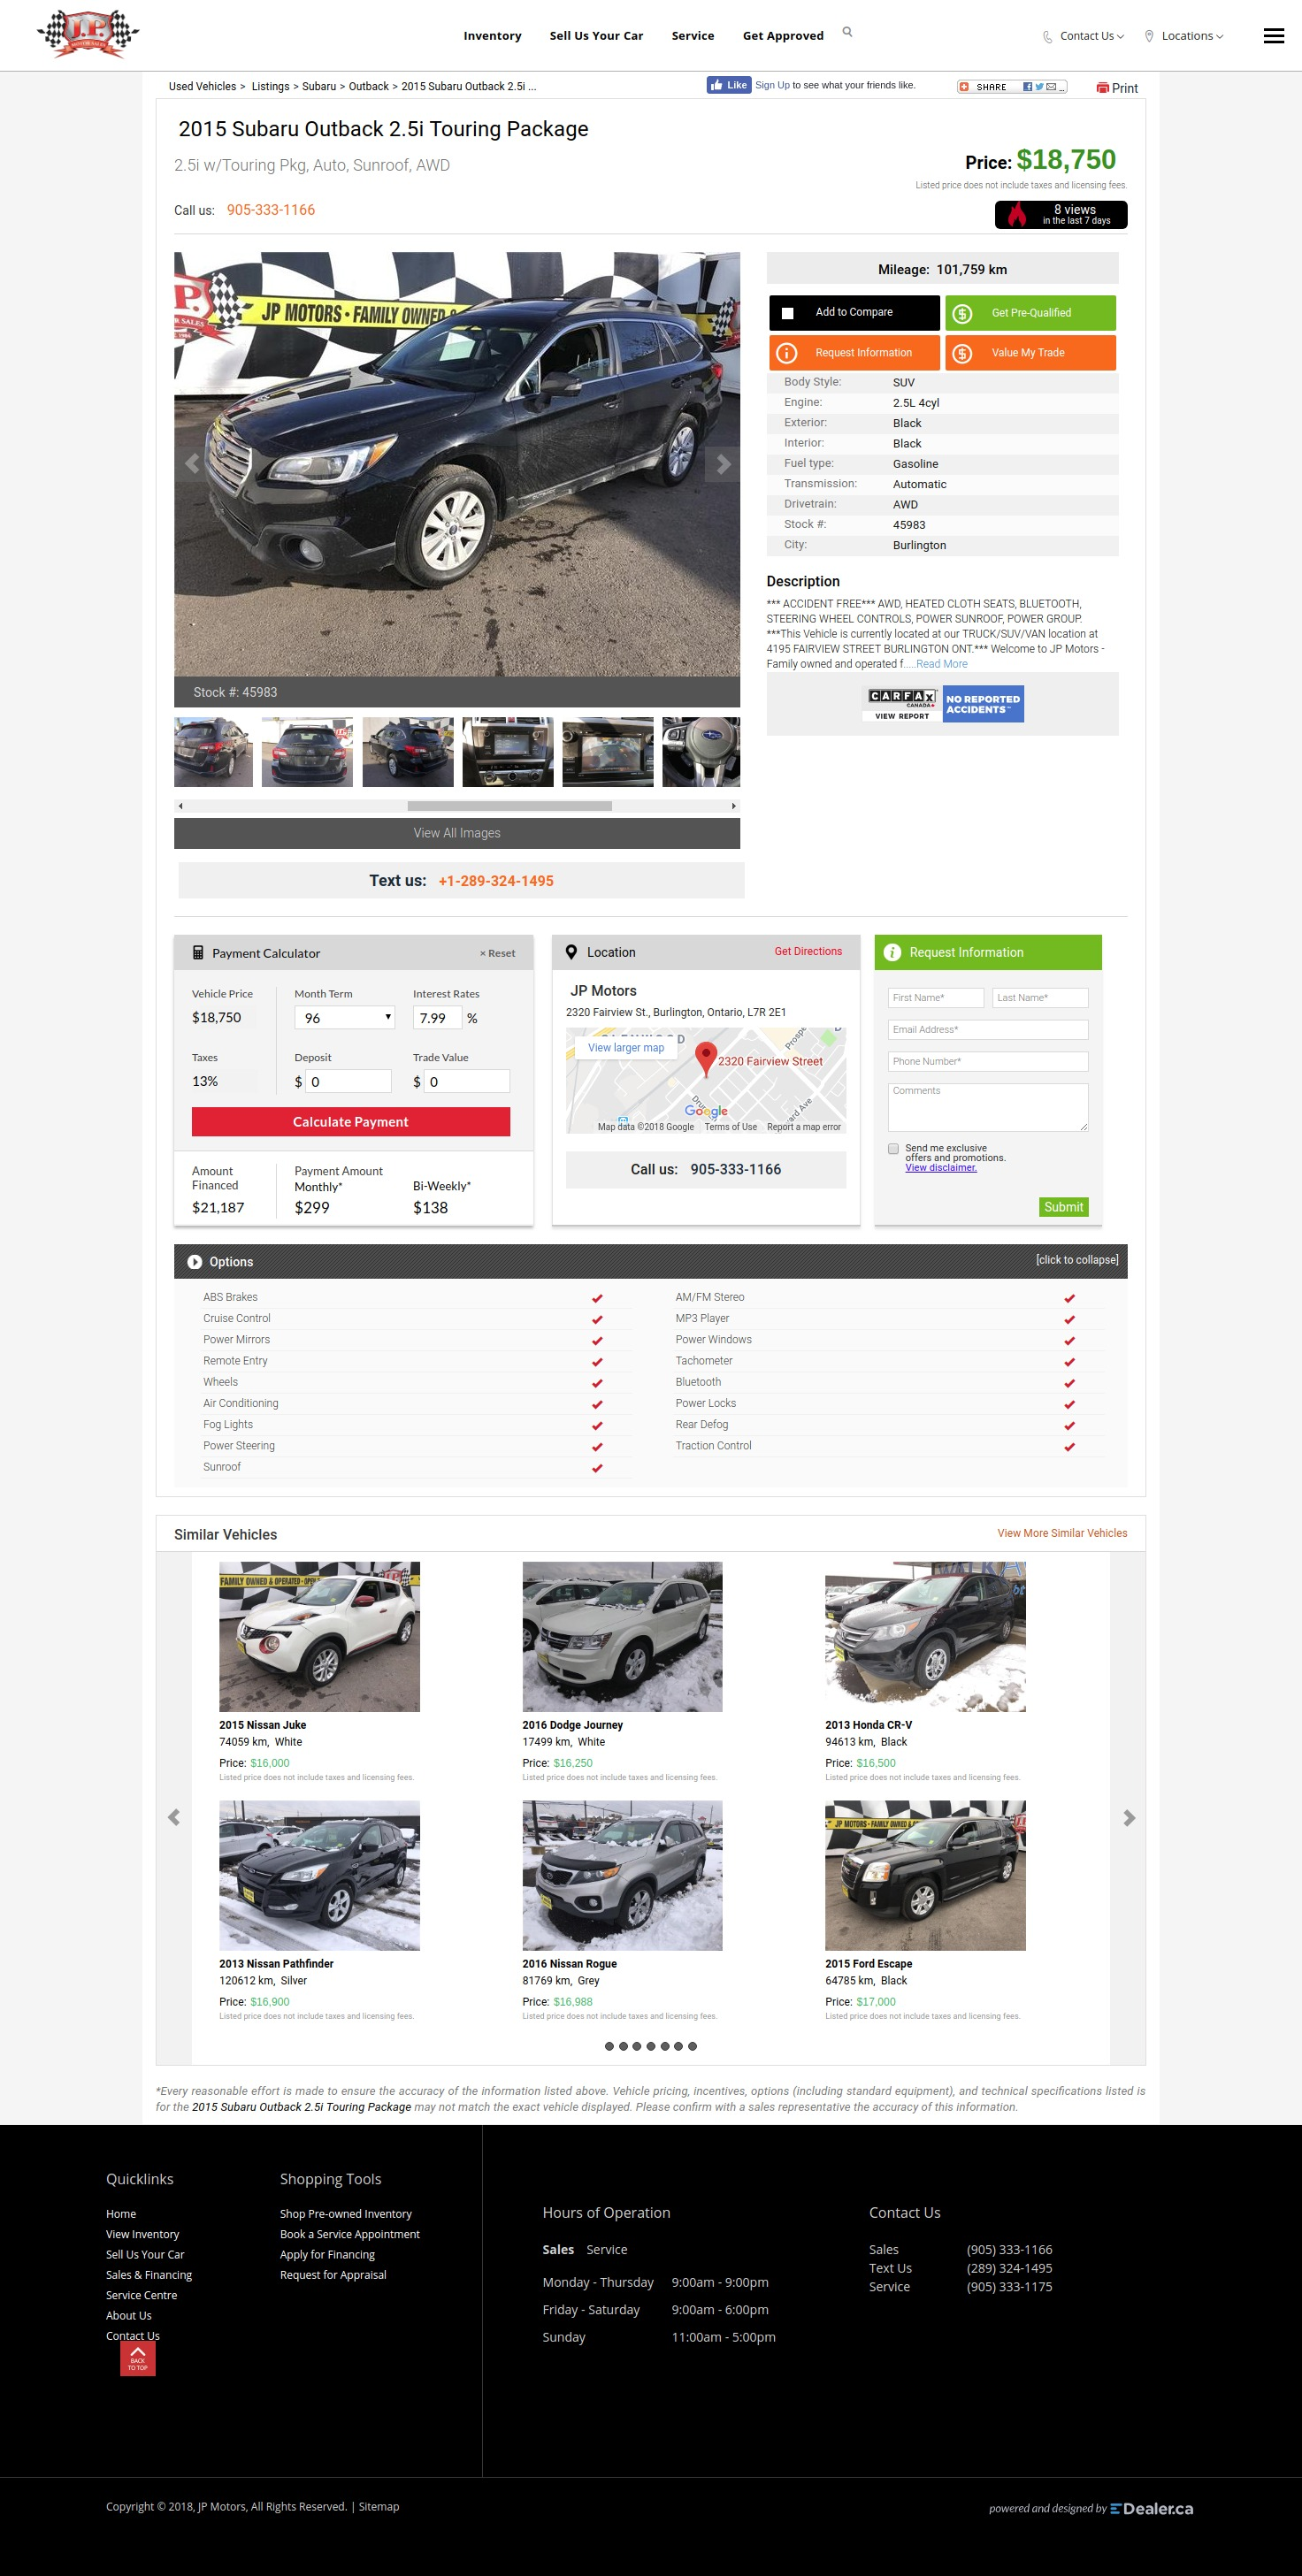car: (732, 803, 737, 812)
